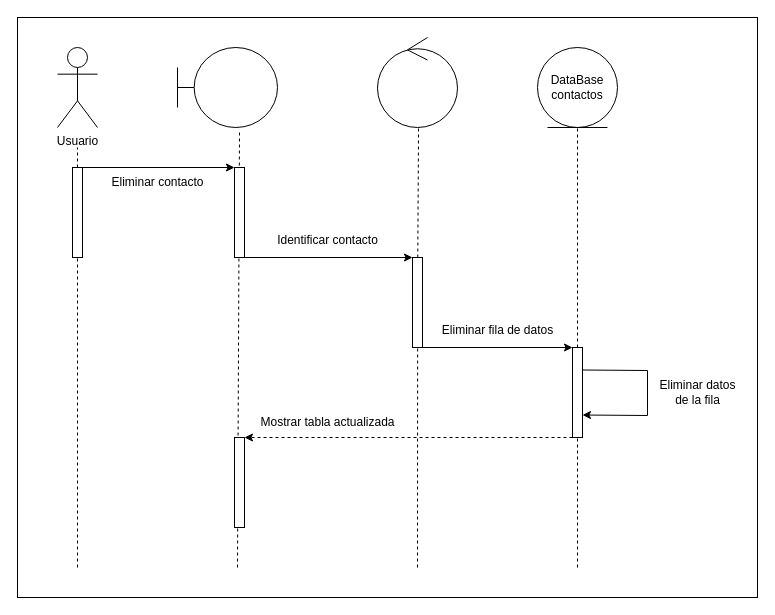
Some shapes in this 775 by 615 pixel diagram are drawn without their labels. Each missing label, with the box of its shape:
Lista de contactos: (176, 46, 278, 128)
Recepción de datos: (376, 36, 458, 128)
